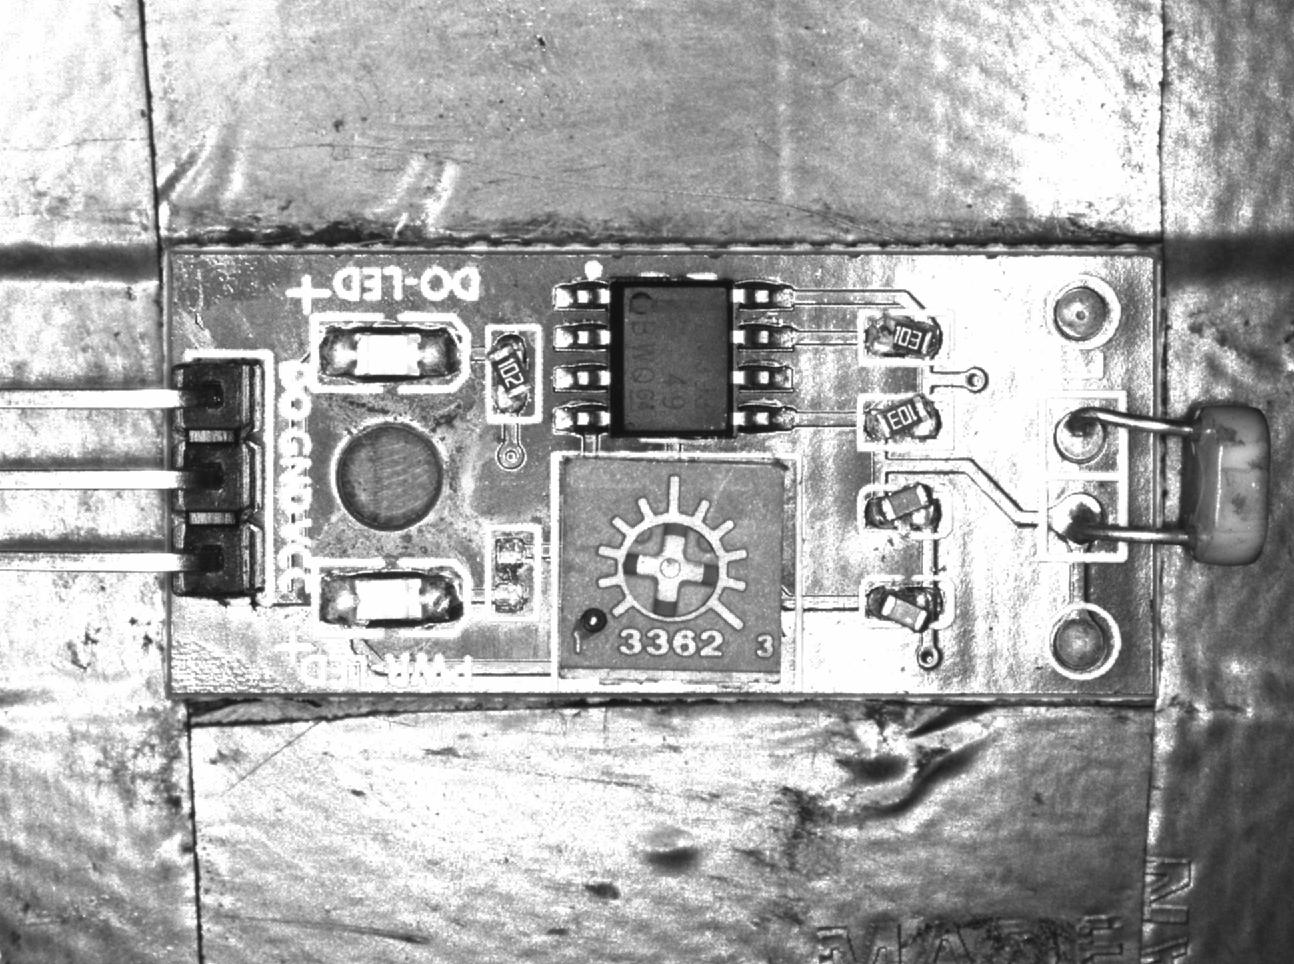lifted: (484, 324, 542, 420), (857, 393, 953, 449), (858, 578, 952, 634), (859, 483, 953, 537), (864, 309, 949, 367)
miss: (482, 526, 544, 623)
